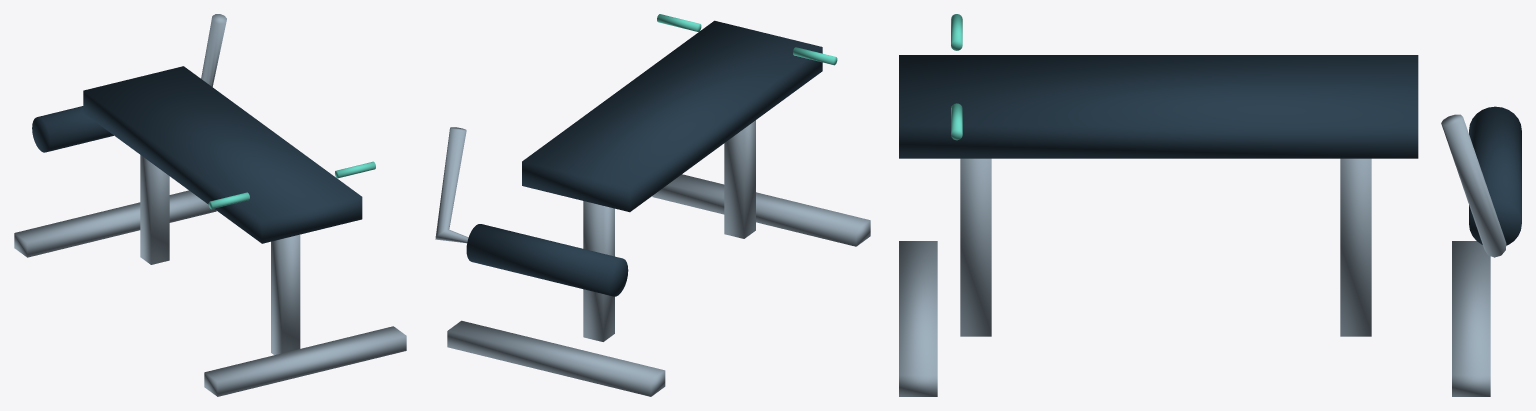
File: lying_leg_curl_machine.glb
3 views of the same model, side by side, from view 1: azimuth 30°, elevation 25°; view 2: azimuth 150°, elevation 25°; view 3: azimuth 270°, elevation 25° (orthographic). The views are drawn at different scales.
Parts seen in each view (by area): view 1: prone_pad, base, curl_pad, curl_link, handle_R, handle_L; view 2: prone_pad, base, curl_pad, curl_link, handle_L, handle_R; view 3: prone_pad, base, curl_pad, curl_link.
Boxes of the visible parts, bbox=[...] form: prone_pad: bbox=[83, 66, 362, 243]; base: bbox=[14, 155, 406, 396]; curl_pad: bbox=[32, 106, 113, 152]; curl_link: bbox=[201, 14, 226, 86]; handle_R: bbox=[208, 192, 249, 209]; handle_L: bbox=[335, 161, 375, 178]; prone_pad: bbox=[522, 20, 822, 212]; base: bbox=[447, 120, 870, 396]; curl_pad: bbox=[466, 224, 628, 296]; curl_link: bbox=[435, 127, 468, 243]; handle_L: bbox=[657, 14, 701, 31]; handle_R: bbox=[793, 47, 837, 65]; prone_pad: bbox=[899, 55, 1418, 158]; base: bbox=[899, 158, 1490, 396]; curl_pad: bbox=[1469, 106, 1521, 245]; curl_link: bbox=[1441, 114, 1506, 257].
Size of the model in its own units: 0.6928 by 0.6471 by 1.29.
